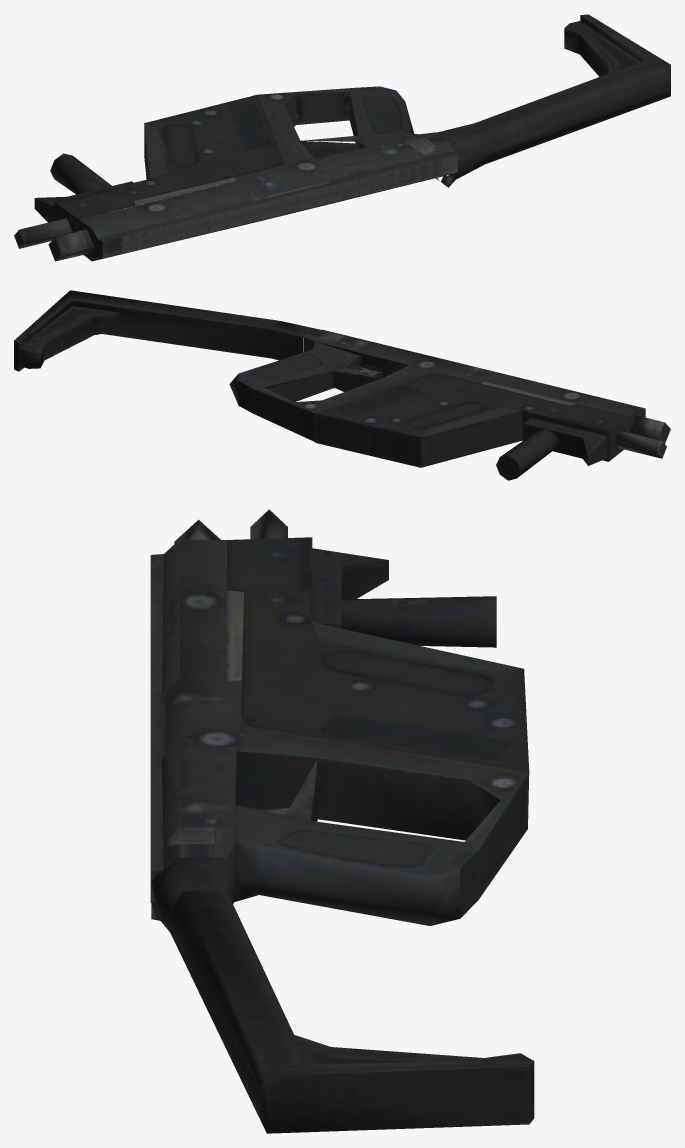
Rendered from Pickup_WeaponCfq07.glb.
3 views of the same model, one above another, from view 1: azimuth 30°, elevation 25°; view 2: azimuth 150°, elevation 25°; view 3: azimuth 270°, elevation 25° (orthographic). The views are drawn at different scales.
Parts seen in each view (by area): view 1: pk_weapon_cfq07; view 2: pk_weapon_cfq07; view 3: pk_weapon_cfq07.
Boxes of the visible parts, x1,y1,x2,y2 form: pk_weapon_cfq07: (14,14,670,261); pk_weapon_cfq07: (14,290,670,480); pk_weapon_cfq07: (150,509,534,1133).
Bounding box in the file's own units: 0.9931 × 0.057 × 0.2783.
1 material, 1 textured.
